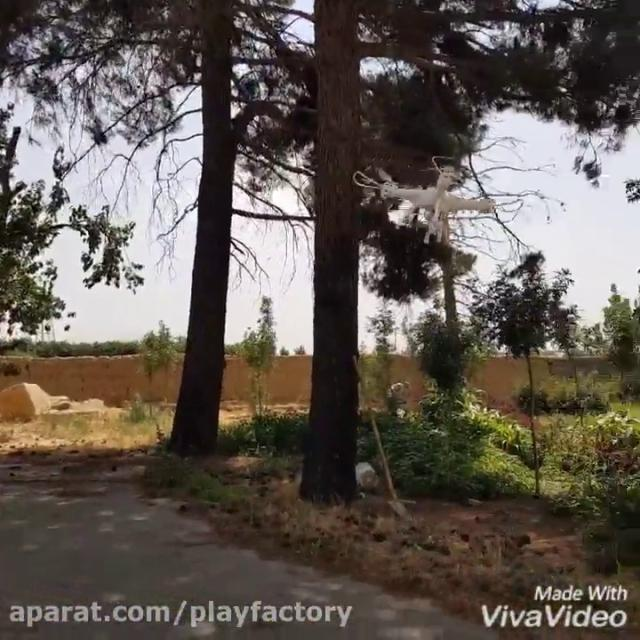drone: (352, 154, 500, 246)
